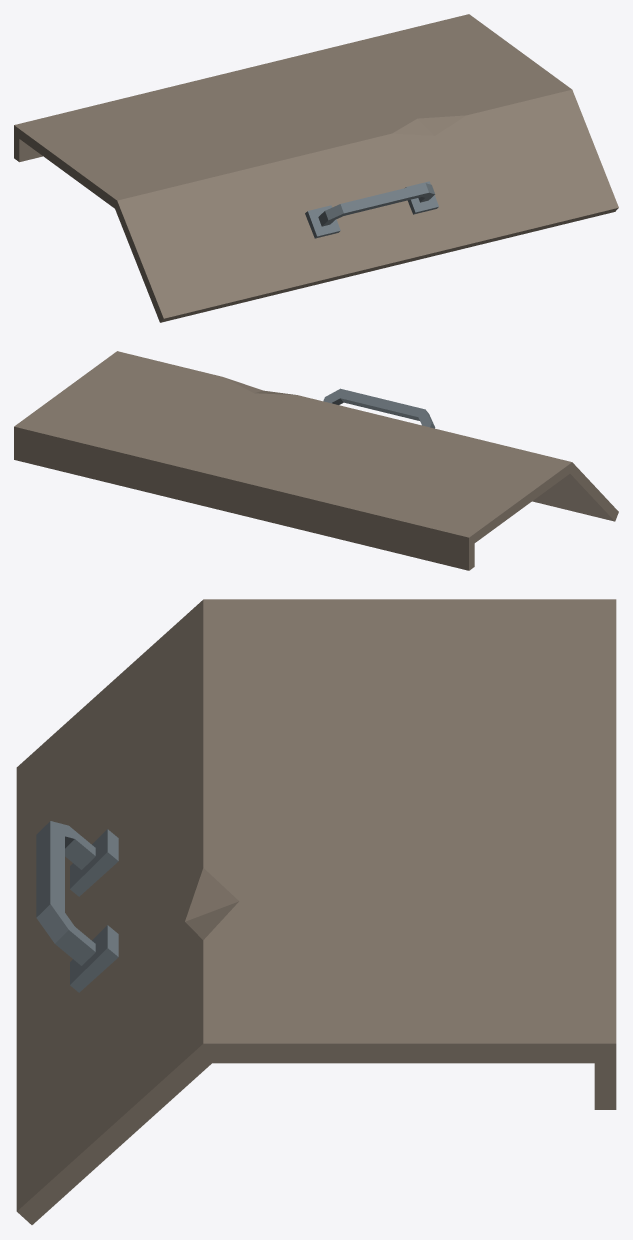
The model's file is SM_Prop_ToolCabinet_Top_02_Lid.fbx.
The picture shows the model from 3 angles, top to bottom: view 1: azimuth 30°, elevation 25°; view 2: azimuth 150°, elevation 25°; view 3: azimuth 270°, elevation 25°; orthographic projection. The views are drawn at different scales.
Parts seen in each view (by area): view 1: SM_Prop_ToolCabinet_Top_02_Lid; view 2: SM_Prop_ToolCabinet_Top_02_Lid; view 3: SM_Prop_ToolCabinet_Top_02_Lid.
Boxes of the visible parts, x1,y1,x2,y2 form: SM_Prop_ToolCabinet_Top_02_Lid: (14, 14, 618, 322); SM_Prop_ToolCabinet_Top_02_Lid: (14, 351, 618, 570); SM_Prop_ToolCabinet_Top_02_Lid: (16, 599, 616, 1224).
Size of the model in its own units: 68.17 by 13.01 by 38.87.
